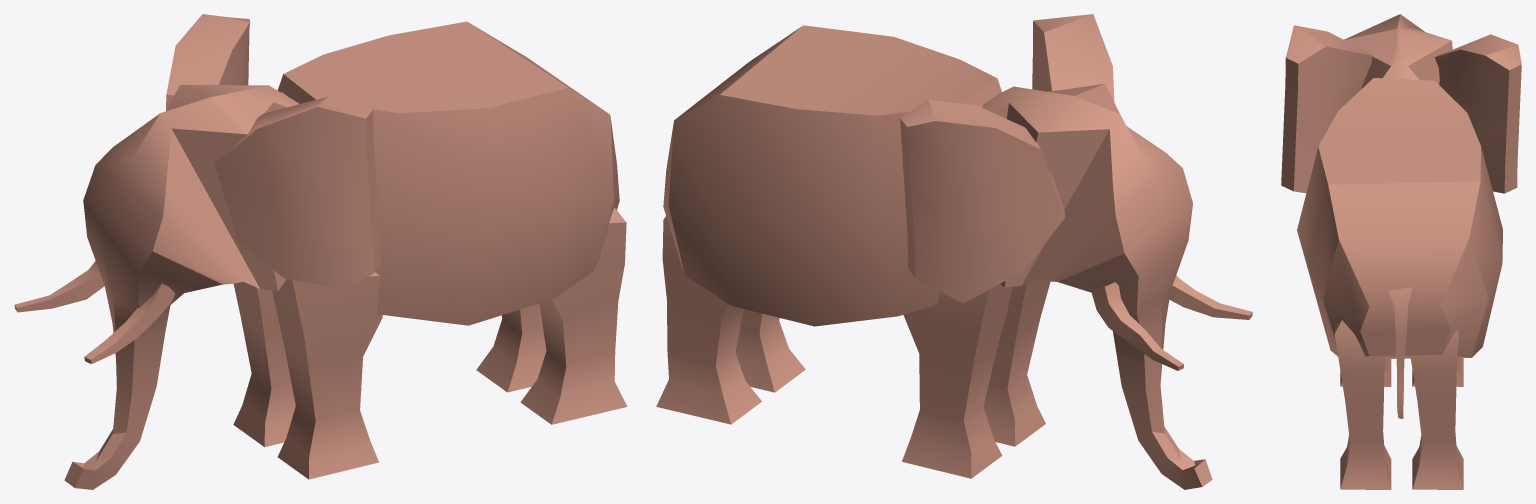
The model's file is elefantino.fbx.
3 renders of one model, left to right at view 1: azimuth 30°, elevation 25°; view 2: azimuth 150°, elevation 25°; view 3: azimuth 270°, elevation 25°, orthographic. The views are drawn at different scales.
Visible parts, largest first — view 1: Cube; view 2: Cube; view 3: Cube.
Part boxes in pixels (x1=…): Cube: x1=14, y1=14, x2=627, y2=489; Cube: x1=656, y1=14, x2=1252, y2=489; Cube: x1=1281, y1=14, x2=1521, y2=489.
Size of the model in its own units: 384 by 265 by 175.
